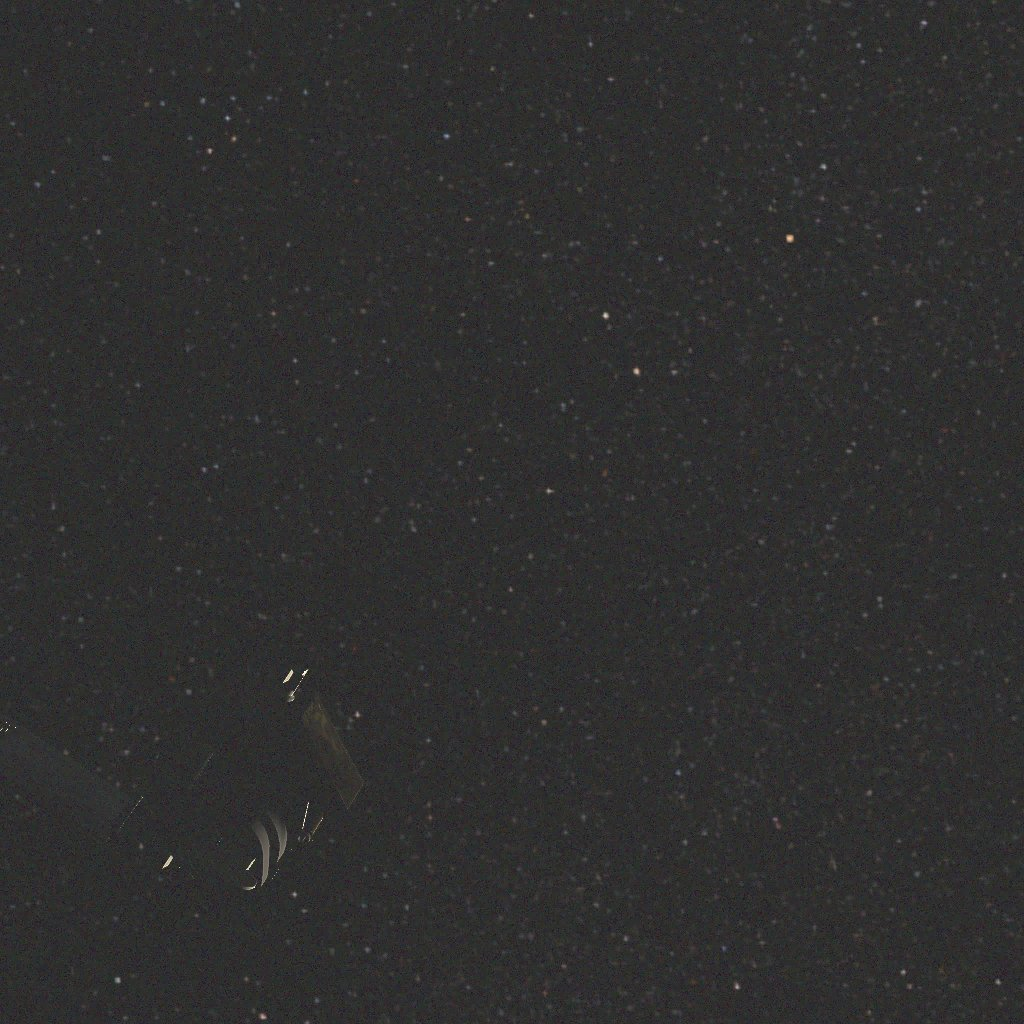earth_observation_sat_1: (0, 661, 364, 900)
